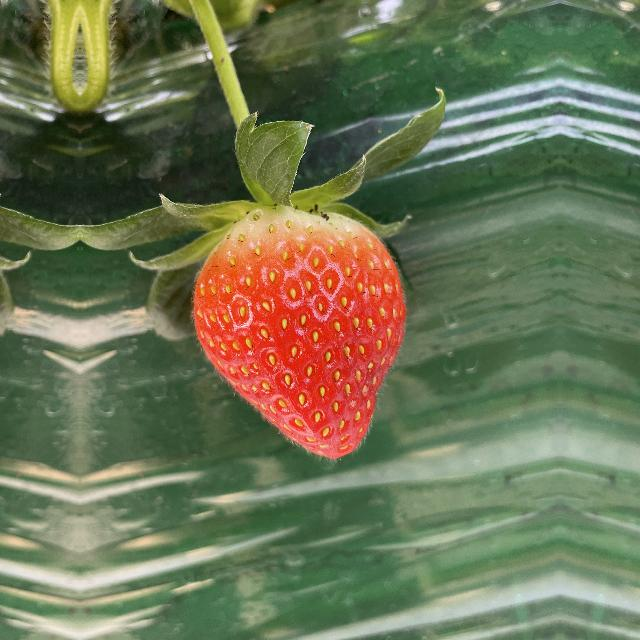Health_100: (186, 205, 412, 475)
